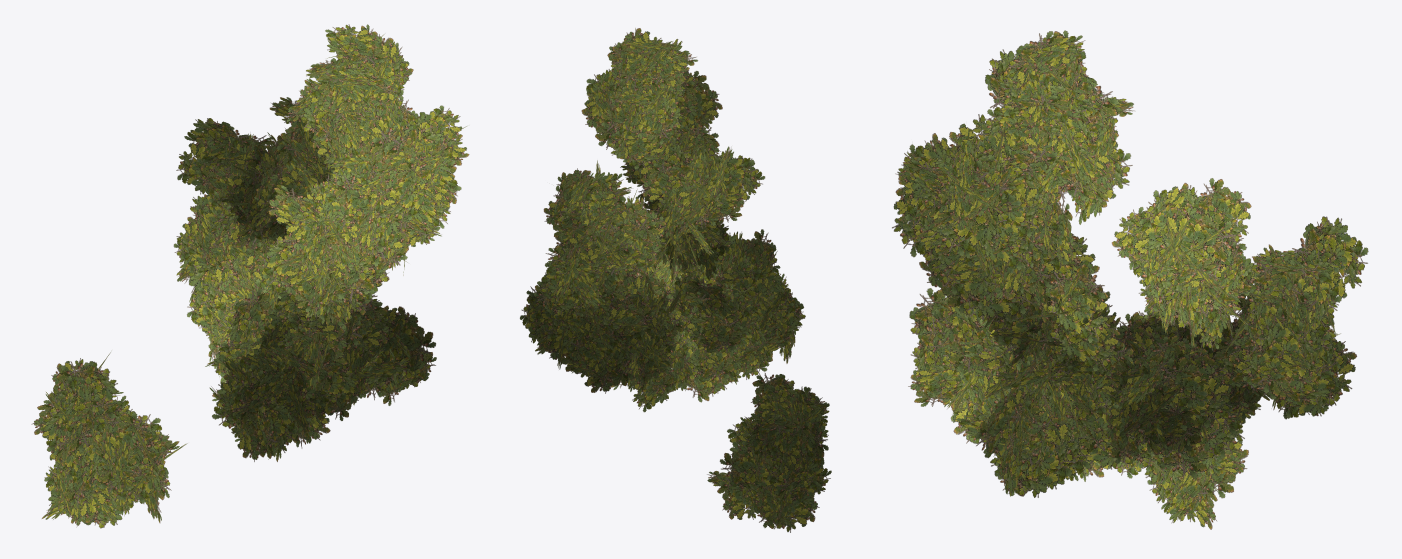
Rendered from oak1_leaves.glb.
3 renders of one model, left to right at view 1: azimuth 30°, elevation 25°; view 2: azimuth 150°, elevation 25°; view 3: azimuth 270°, elevation 25°, orthographic. The views are drawn at different scales.
Parts seen in each view (by area): view 1: leaves; view 2: leaves; view 3: leaves.
Boxes of the visible parts, x1,y1,x2,y2 form: leaves: (31,24,469,528); leaves: (520,28,831,532); leaves: (892,30,1368,529).
Size of the model in its own units: 5.15 by 7.03 by 5.22.
1 material, 1 textured.
